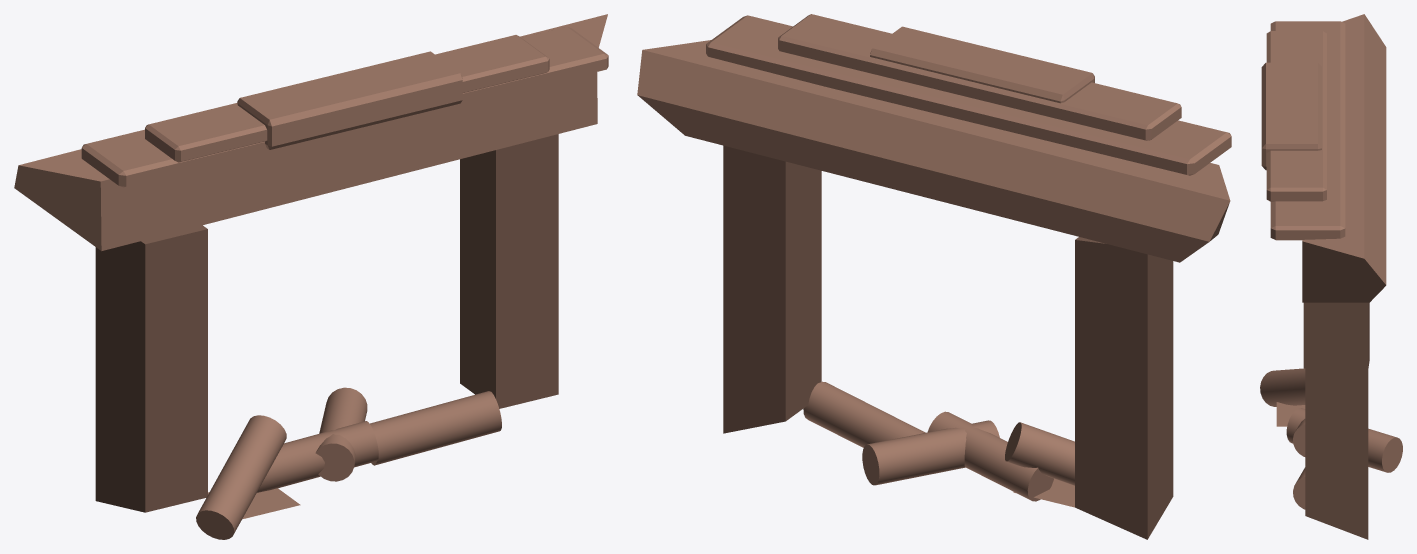
Rendered from Fireplace.fbx.
3 renders of one model, left to right at view 1: azimuth 30°, elevation 25°; view 2: azimuth 150°, elevation 25°; view 3: azimuth 270°, elevation 25°, orthographic. The views are drawn at different scales.
Parts seen in each view (by area): view 1: pCube7; view 2: pCube7; view 3: pCube7.
Boxes of the visible parts, box(x1,y1,x2,y2) form: pCube7: box(14, 14, 608, 539); pCube7: box(637, 14, 1231, 539); pCube7: box(1260, 14, 1402, 539).
Size of the model in its own units: 9.42 by 6.33 by 2.26.
